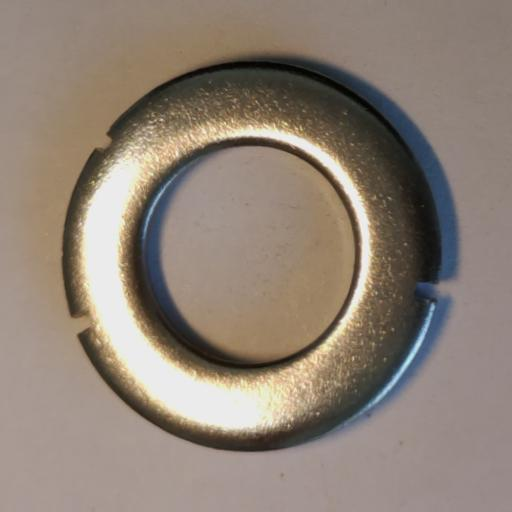burr: (413, 278, 441, 305), (70, 309, 96, 337), (92, 134, 114, 154)
